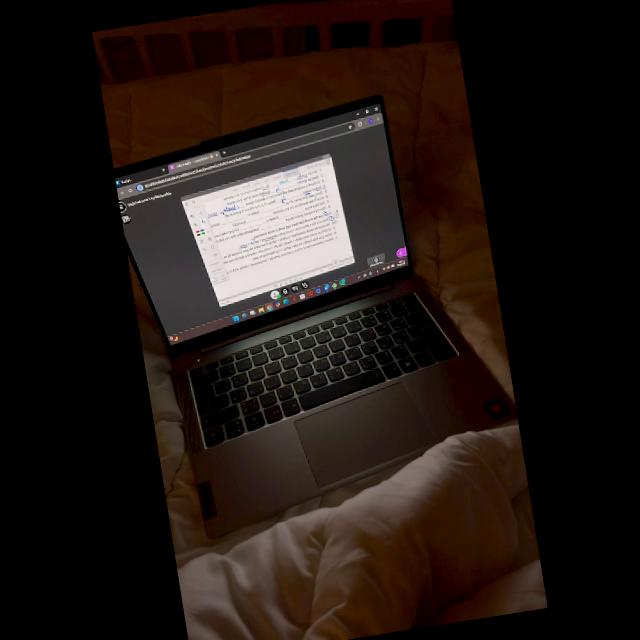laptop: (119, 95, 516, 537)
